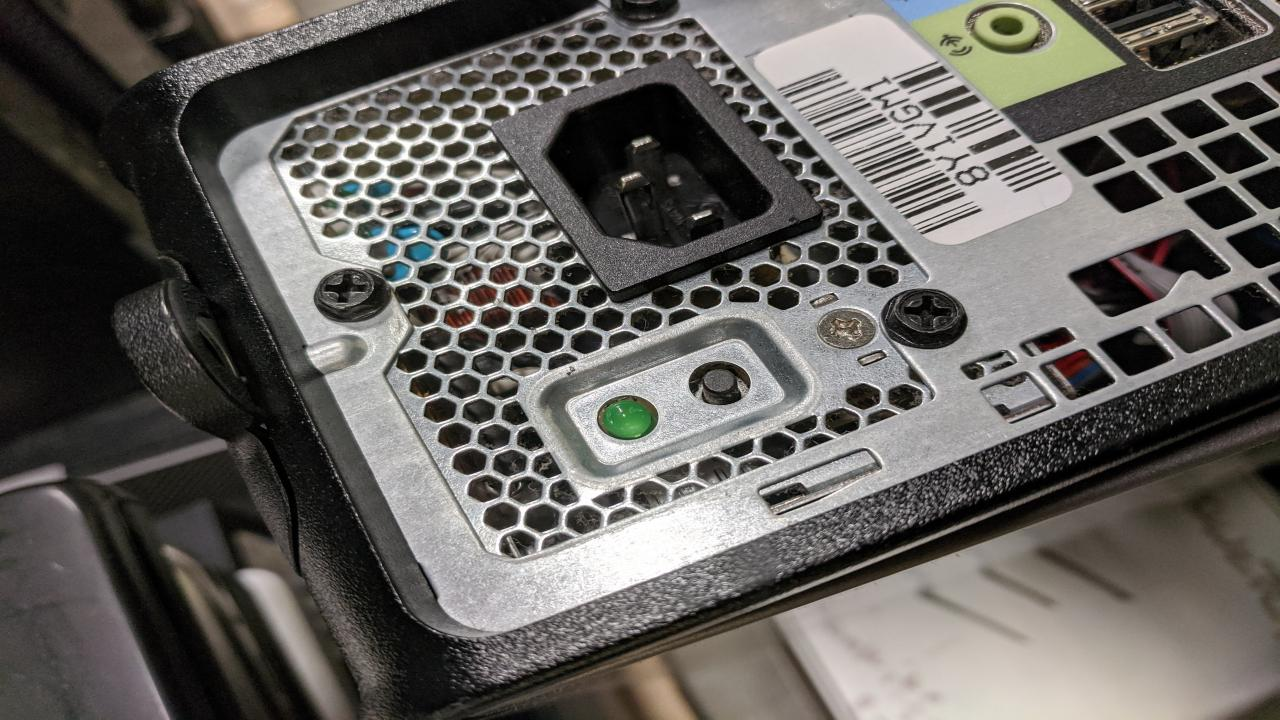CRS: (876, 283, 971, 345), (306, 264, 391, 318), (807, 306, 876, 354)
